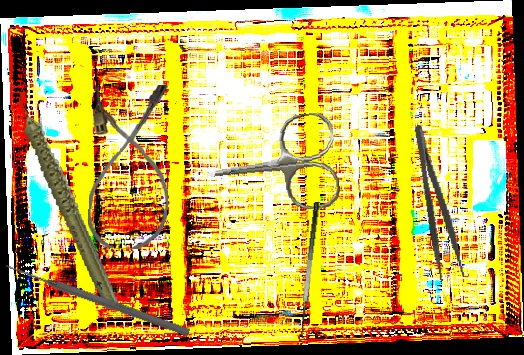Cannula: (87, 82, 172, 251)
Dressing Forceps: (410, 121, 466, 283)
Handpiece: (13, 77, 124, 319)
Iris Scissors: (201, 110, 342, 222)
Pusher: (2, 259, 192, 339)
Spatula Surgical: (294, 201, 332, 341)
